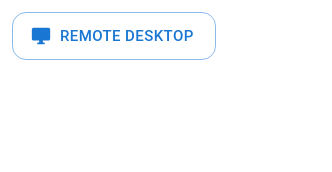
it: RemoteDesktopButton › wakes an off PC and opens once the server says it woke
Later steps or results of the test are not shown.
Click the button "Remote Desktop".
click(114, 36)  # box [12, 12, 216, 60]
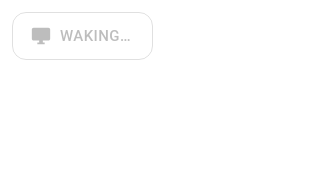
Result: the button "Waking…" is disabled at [12, 12, 153, 60]
